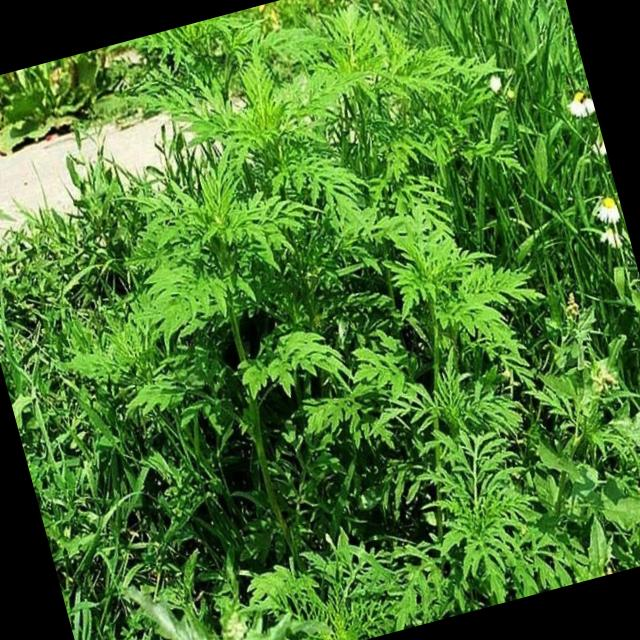ambrosia: (76, 4, 565, 563), (423, 454, 574, 614), (243, 524, 399, 640)
